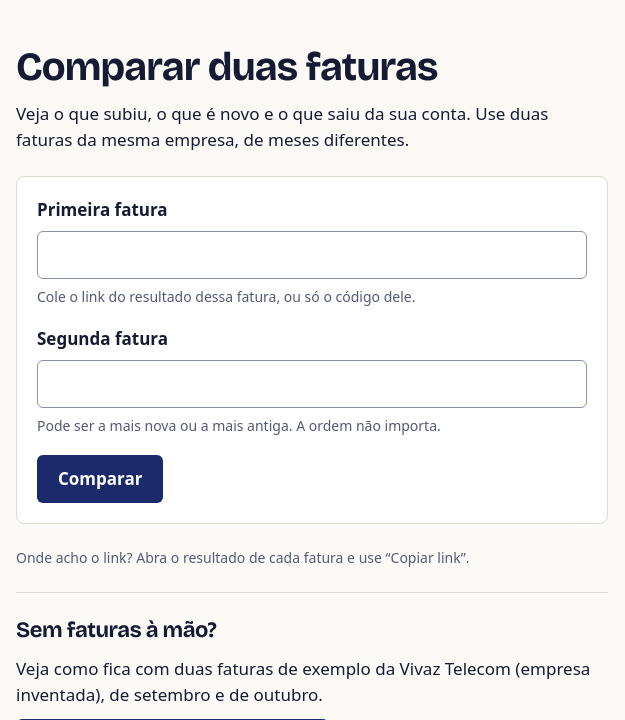
Test: RF16: comparar faturas › resultado expirado ou inexistente mostra a mensagem do servidor
Type "5b0e8f0e-3b8a-4f5e-9c1a-0a1b2c3d4e5f" into the field labelled "Primeira fatura" at coordinates (312, 254), box left=37, top=230, right=587, bottom=278
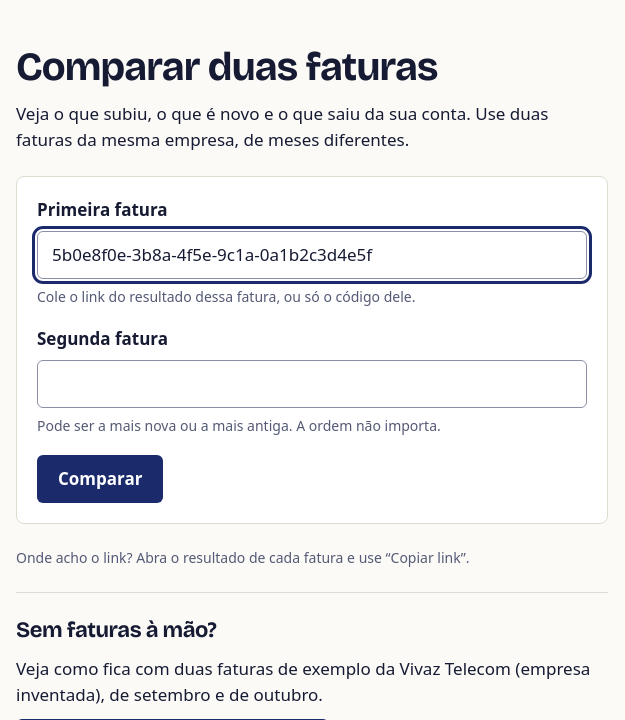
Type "9d4c1a77-52a3-4e0b-8f6d-7e8f9a0b1c2d" into the field labelled "Segunda fatura" at coordinates (312, 384), box left=37, top=360, right=587, bottom=408
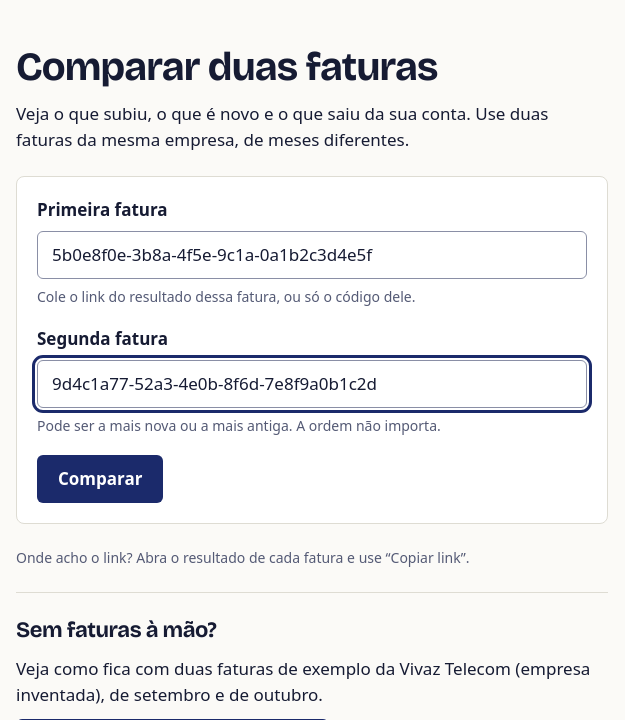
Click the button "Comparar" at coordinates (100, 479), box left=37, top=455, right=164, bottom=503
(page scrolled)
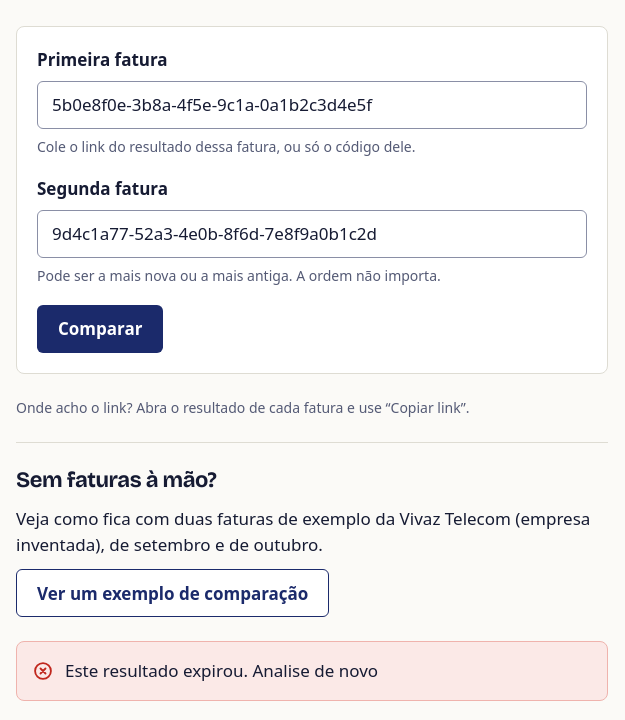
Result: the message reads "Este resultado expirou. Analise de novo" at left=65, top=659, right=378, bottom=682
